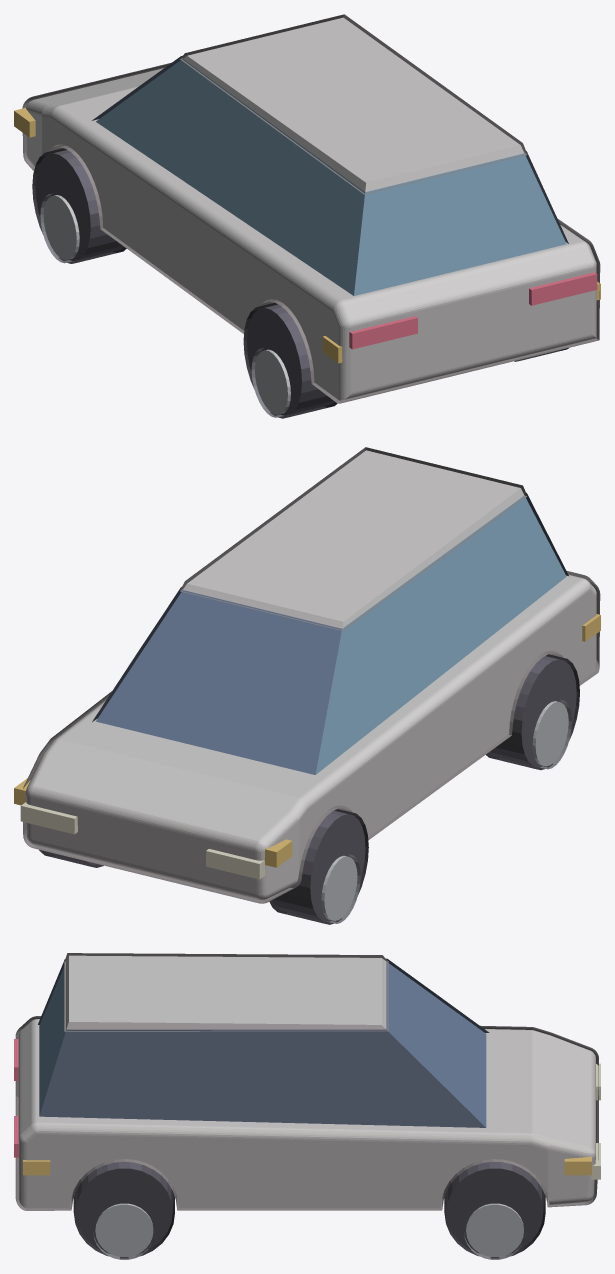
Rendered from traffic_hatch_2.glb.
3 renders of one model, top to bottom at view 1: azimuth 30°, elevation 25°; view 2: azimuth 150°, elevation 25°; view 3: azimuth 270°, elevation 25°, orthographic. The views are drawn at different scales.
Visible parts, largest first — view 1: car, blink; view 2: car, blink; view 3: car, blink.
Boxes of the visible parts, x1,y1,x2,y2 form: car: (22, 14, 600, 418); blink: (14, 108, 600, 363); car: (20, 447, 600, 924); blink: (14, 614, 600, 867); car: (14, 953, 600, 1259); blink: (23, 1156, 591, 1175).
Bounding box in the file's own units: 1.91 × 1.55 × 3.88.
